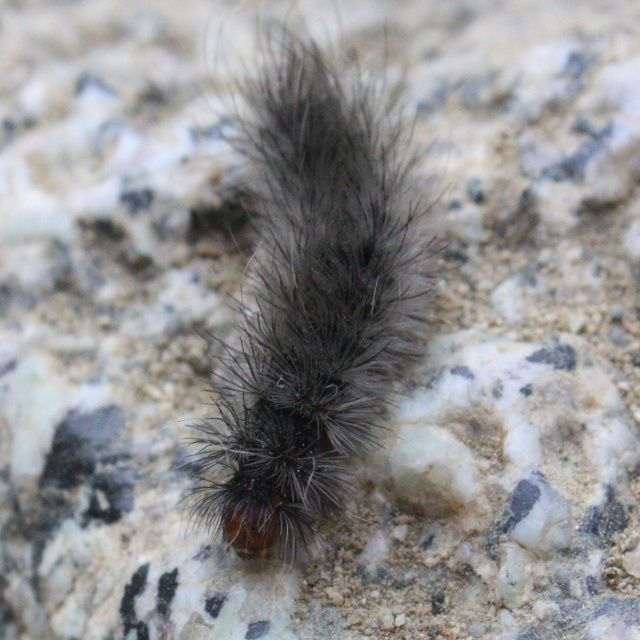Caterpillar: (150, 20, 464, 600)
